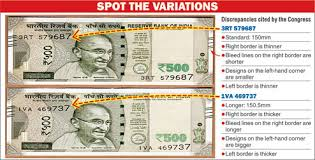fiveHundred: (17, 98, 204, 148), (18, 30, 197, 76)
